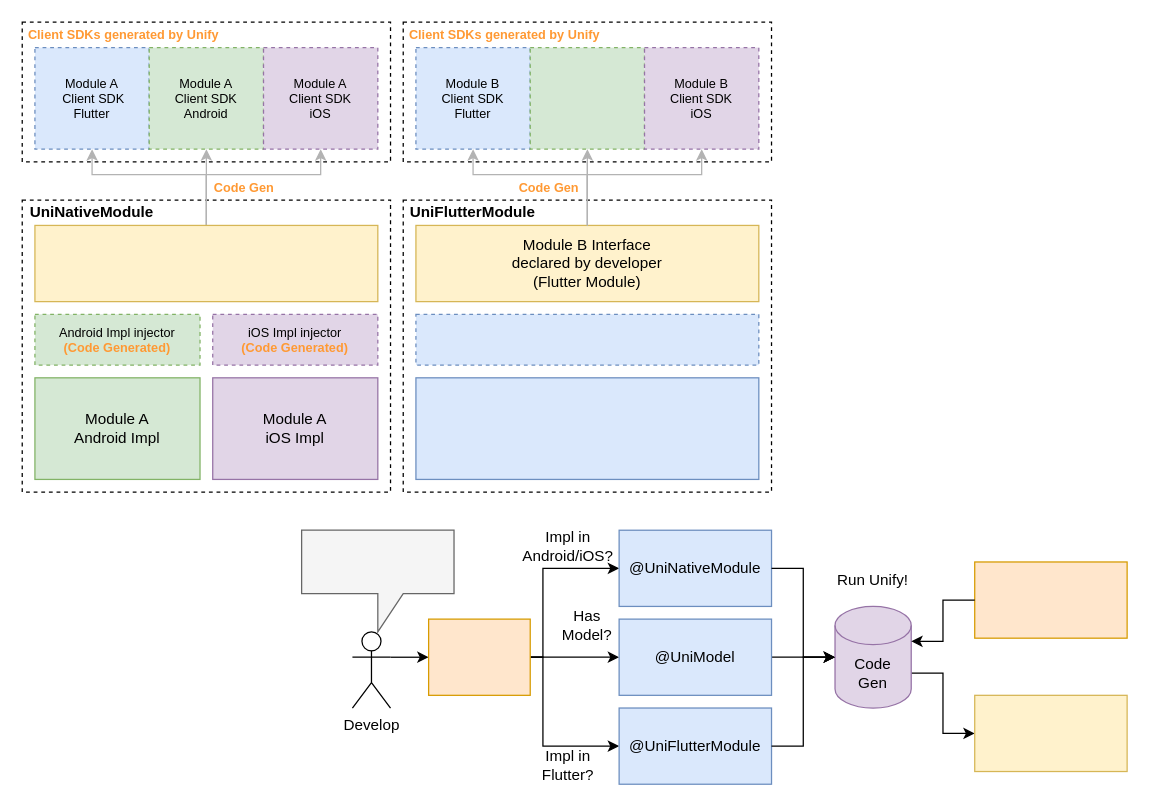
Some shapes in this 1149 by 806 pixel diagram are drawn without their labels. Each missing label, with the centre of its shape:
Declare my module interface: point (478, 656)
Flutter Impl injector (Code Generated): point (587, 339)
I want to create a cross-platform module!: point (377, 580)
Module A Interface declared by developer (Native Module): point (206, 263)
Module B Client SDK Android: point (587, 97)
Module B Dart Impl: point (587, 428)
My Implementations: point (1050, 599)
Use my module at And/iOS/Flutter In the same way!: point (1050, 733)
